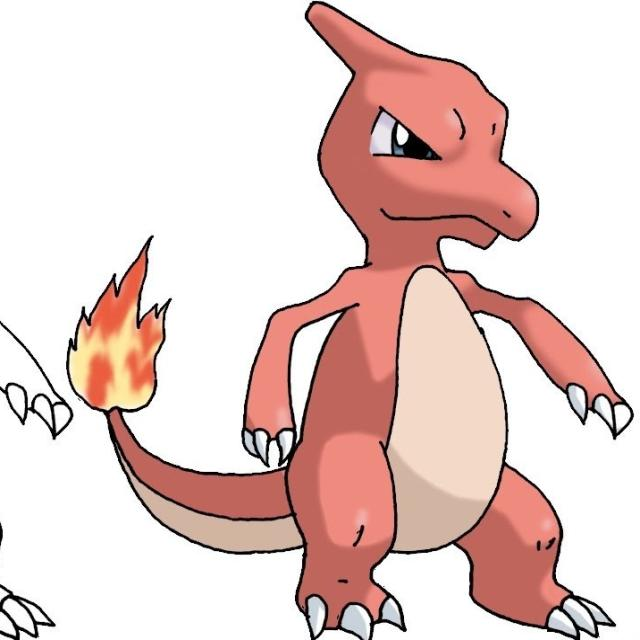Charmeleon: (231, 10, 626, 640)
